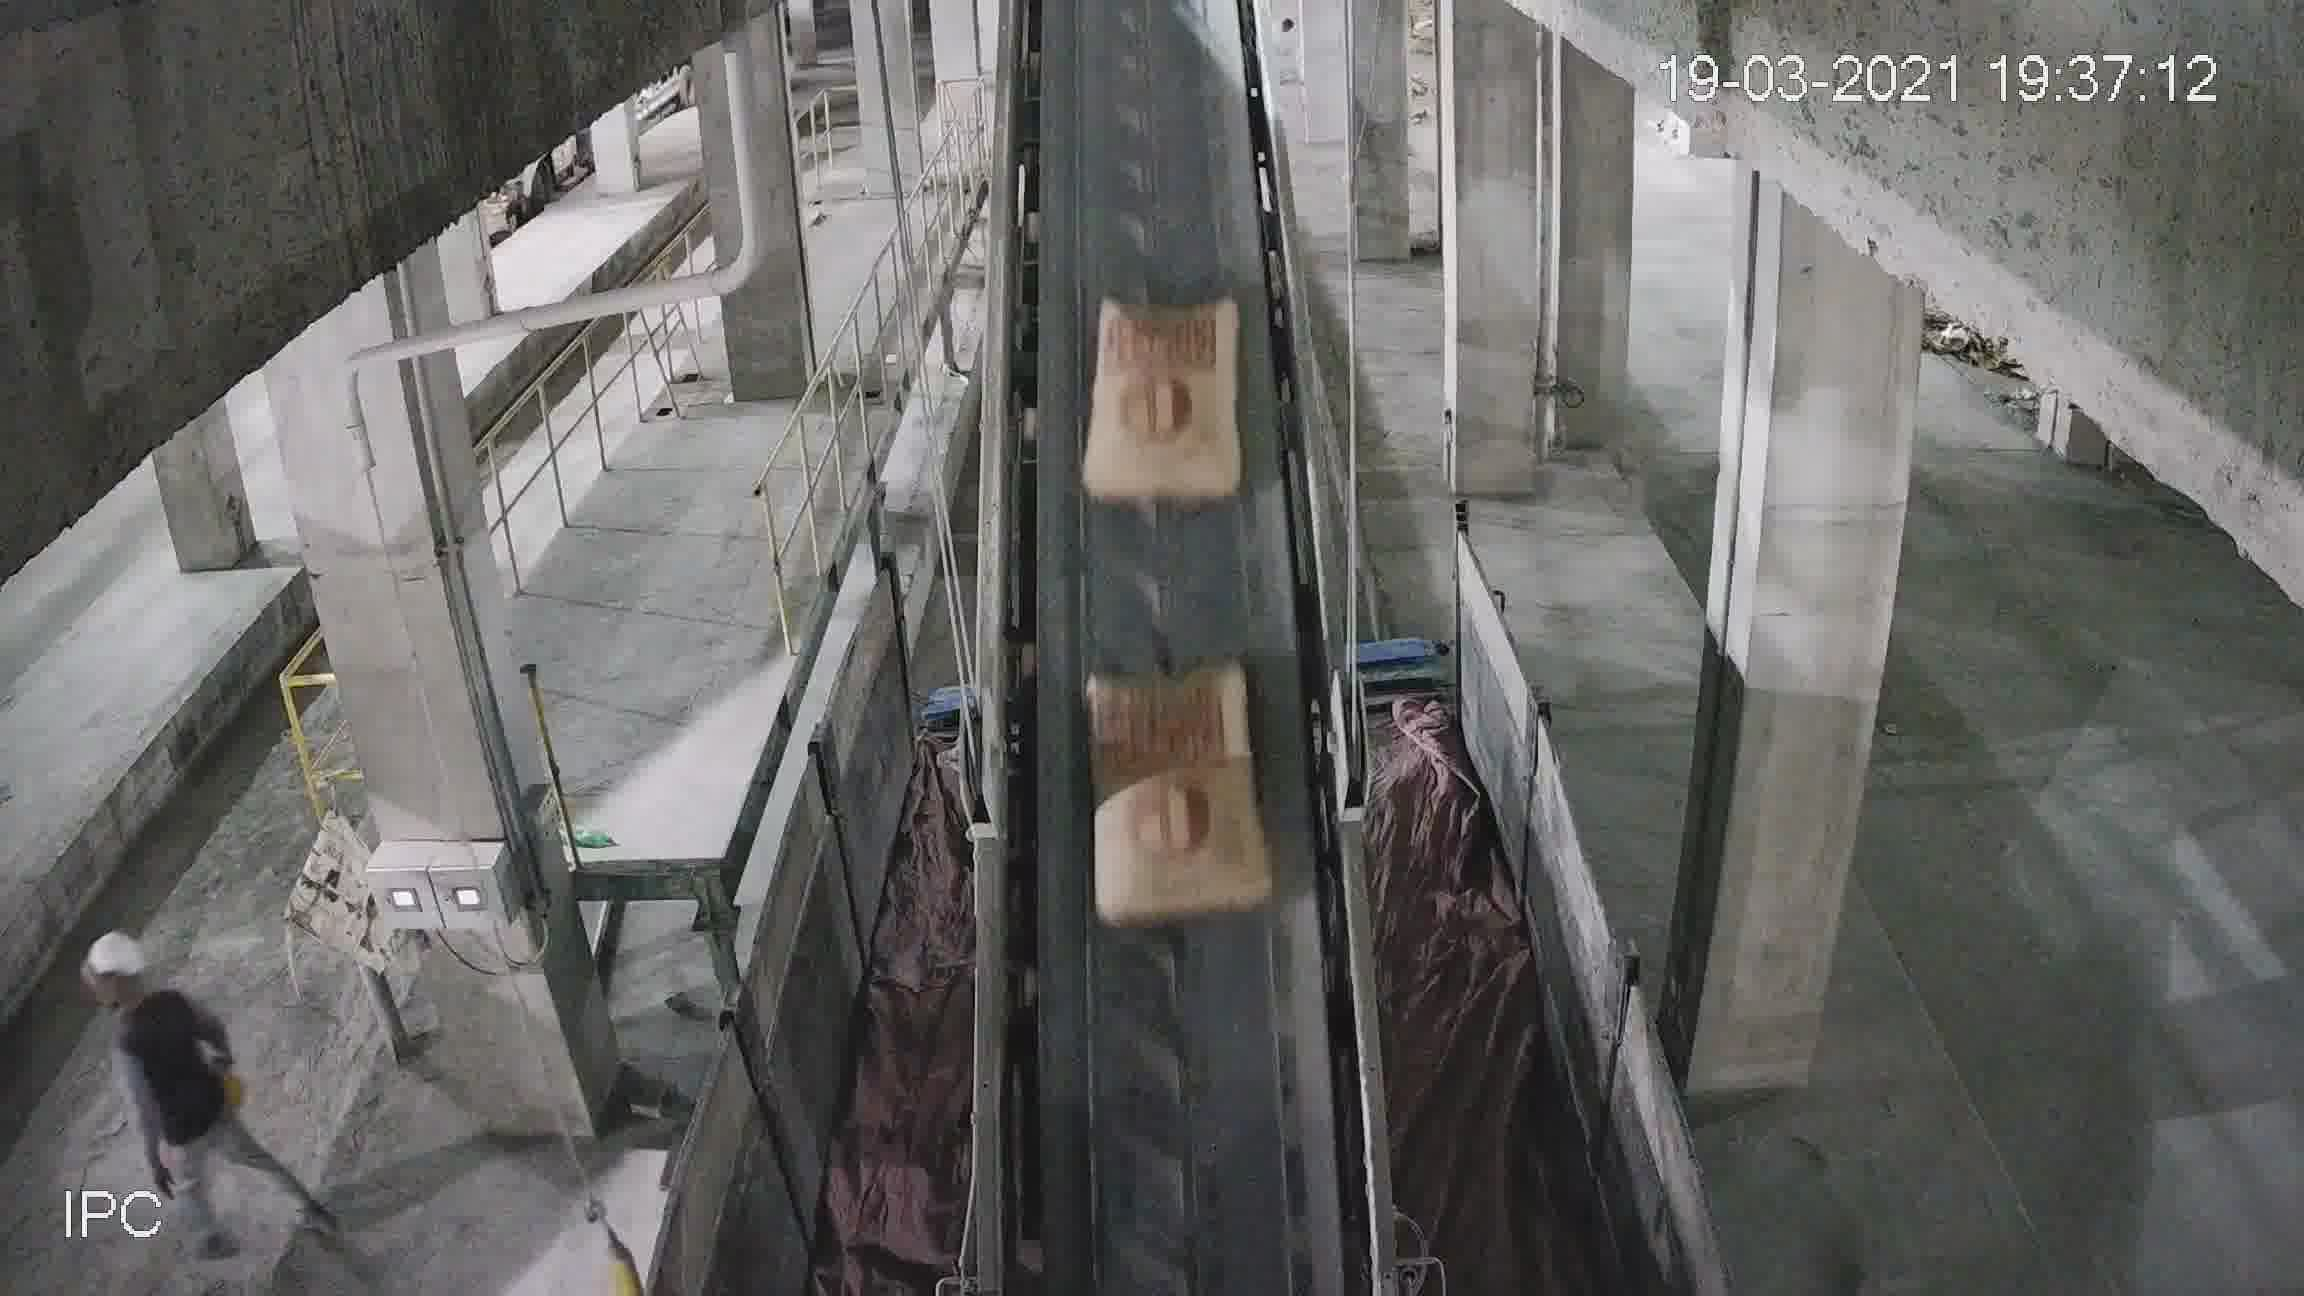bag: (1090, 660, 1263, 927), (1082, 309, 1241, 503)
belt: (983, 11, 1361, 1084)
